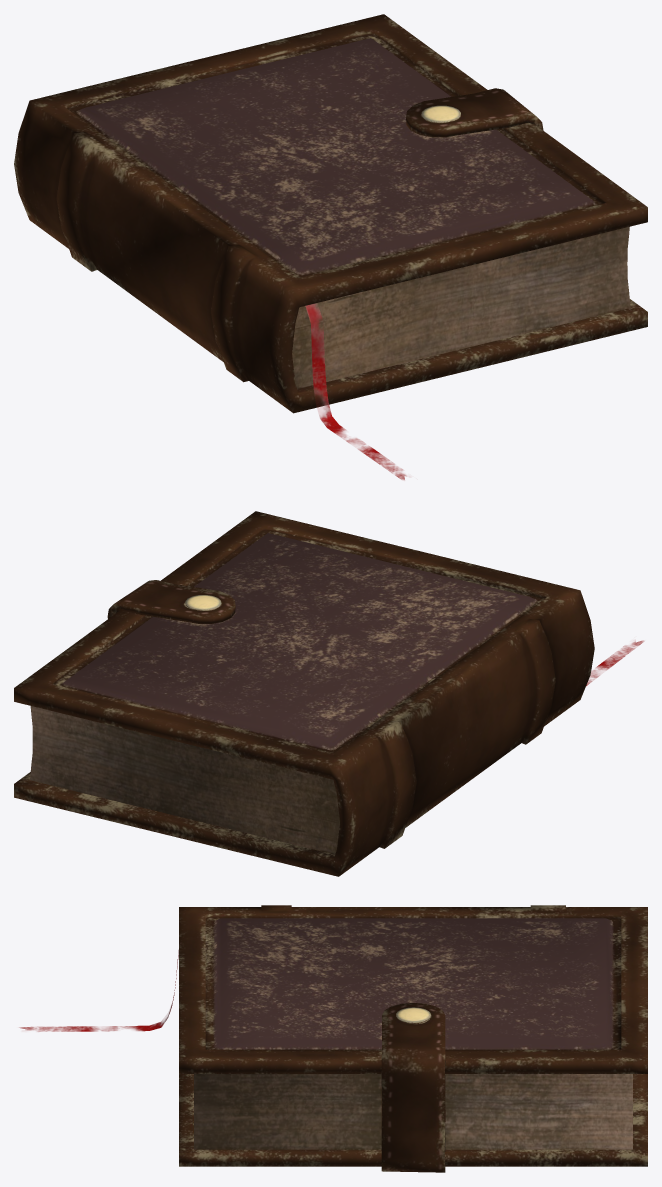
3 views of the same model, one above another, from view 1: azimuth 30°, elevation 25°; view 2: azimuth 150°, elevation 25°; view 3: azimuth 270°, elevation 25° (orthographic). The views are drawn at different scales.
Visible parts, largest first — view 1: Book_low; view 2: Book_low; view 3: Book_low.
Boxes of the visible parts, left/top/right/bottom form: Book_low: left=14, top=14, right=647, bottom=480; Book_low: left=14, top=511, right=644, bottom=876; Book_low: left=19, top=905, right=647, bottom=1172.
Size of the model in its own units: 338 by 123 by 541.
1 material, 1 textured.
